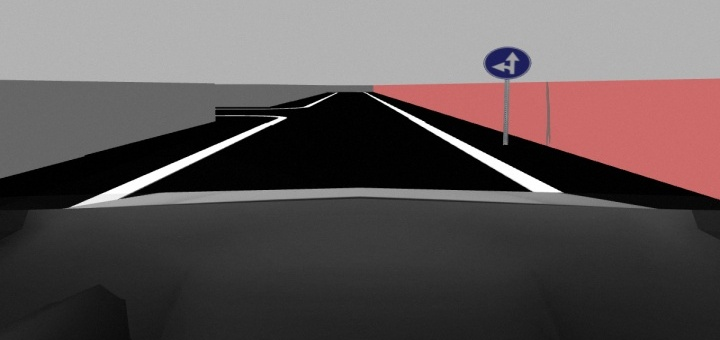saga_donulmez: (480, 42, 529, 82)
